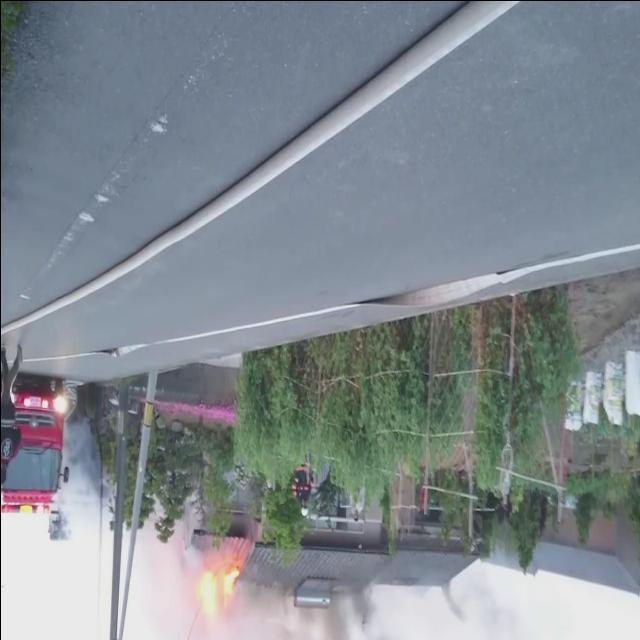Fire: (194, 567, 236, 623)
